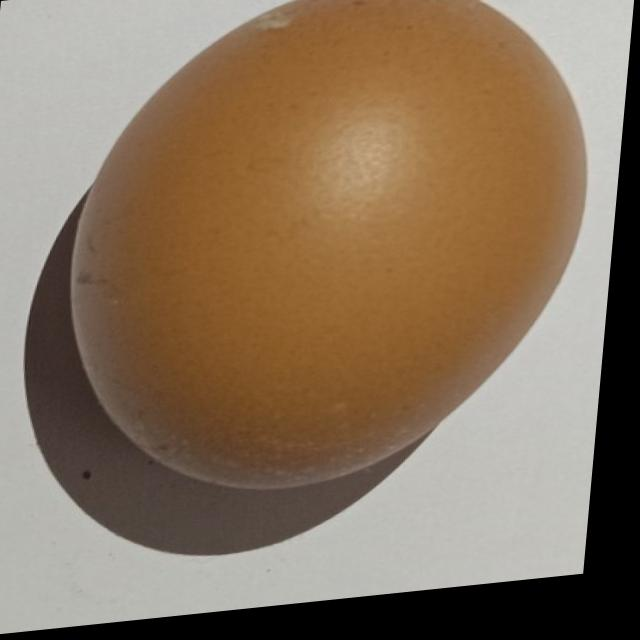fresh: (53, 0, 605, 514)
